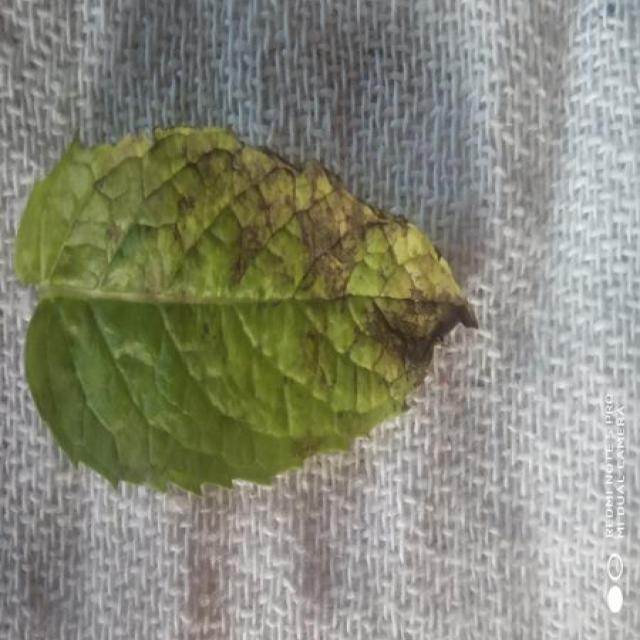mint: (15, 126, 477, 492)
